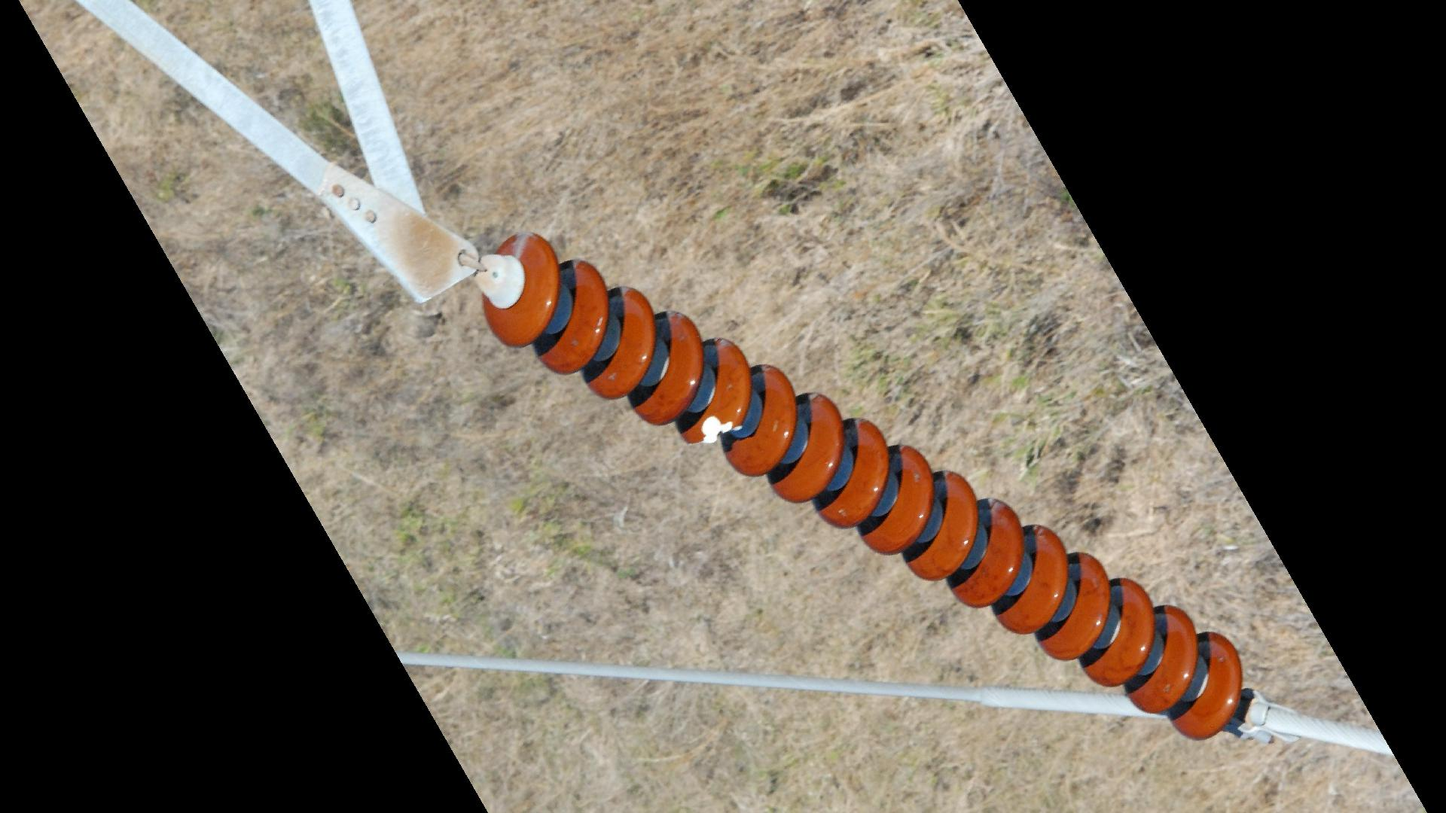insulator: (477, 223, 1249, 744)
insulator_breakage: (677, 406, 745, 455)
